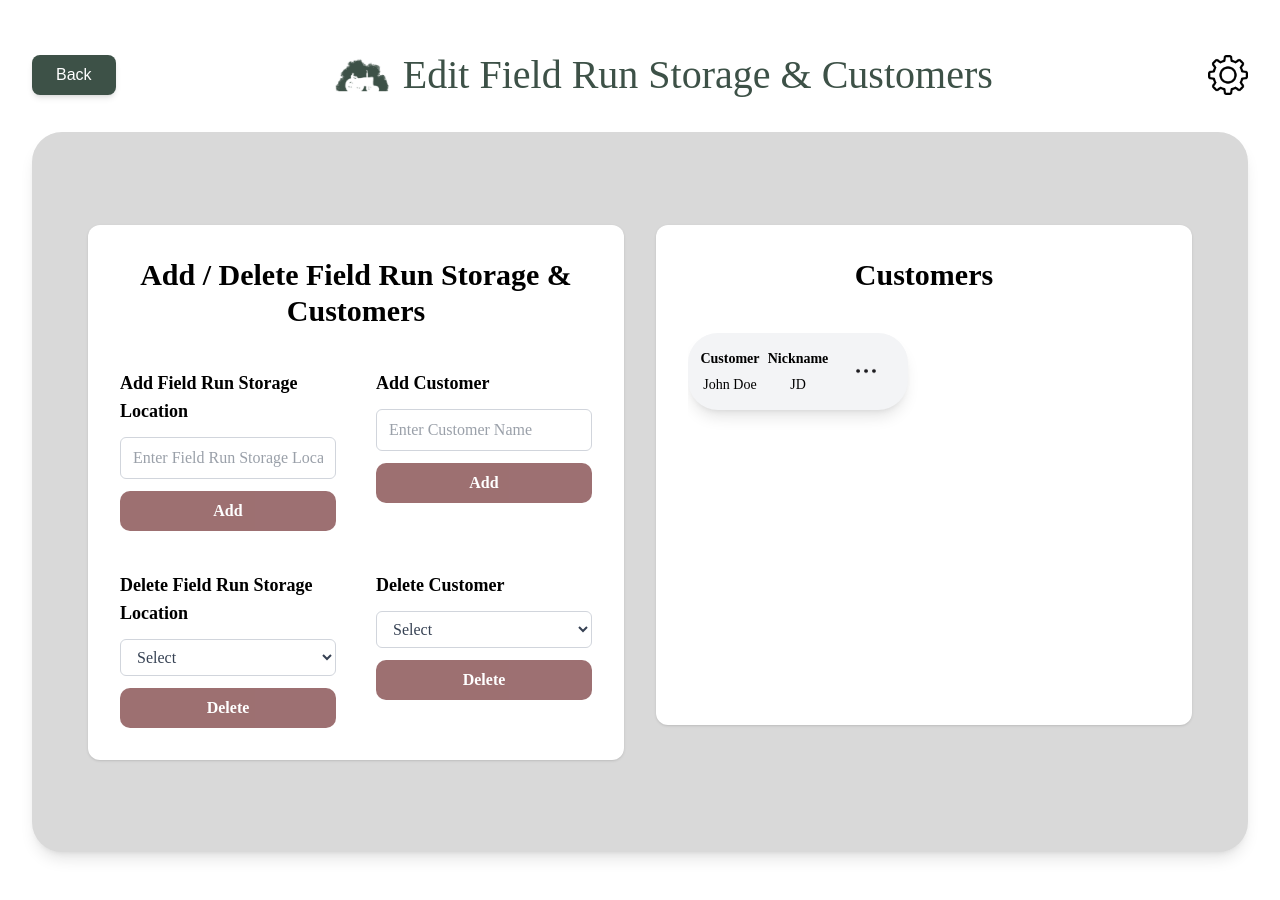
Test: EditFRStorageSuppliers (unit tests) › shows error message when Supabase insert returns duplicate location error
Step 1. Type "Silo 1" into the field with placeholder "Enter Field Run Storage Location" → (228, 458), box [120,436,336,478]
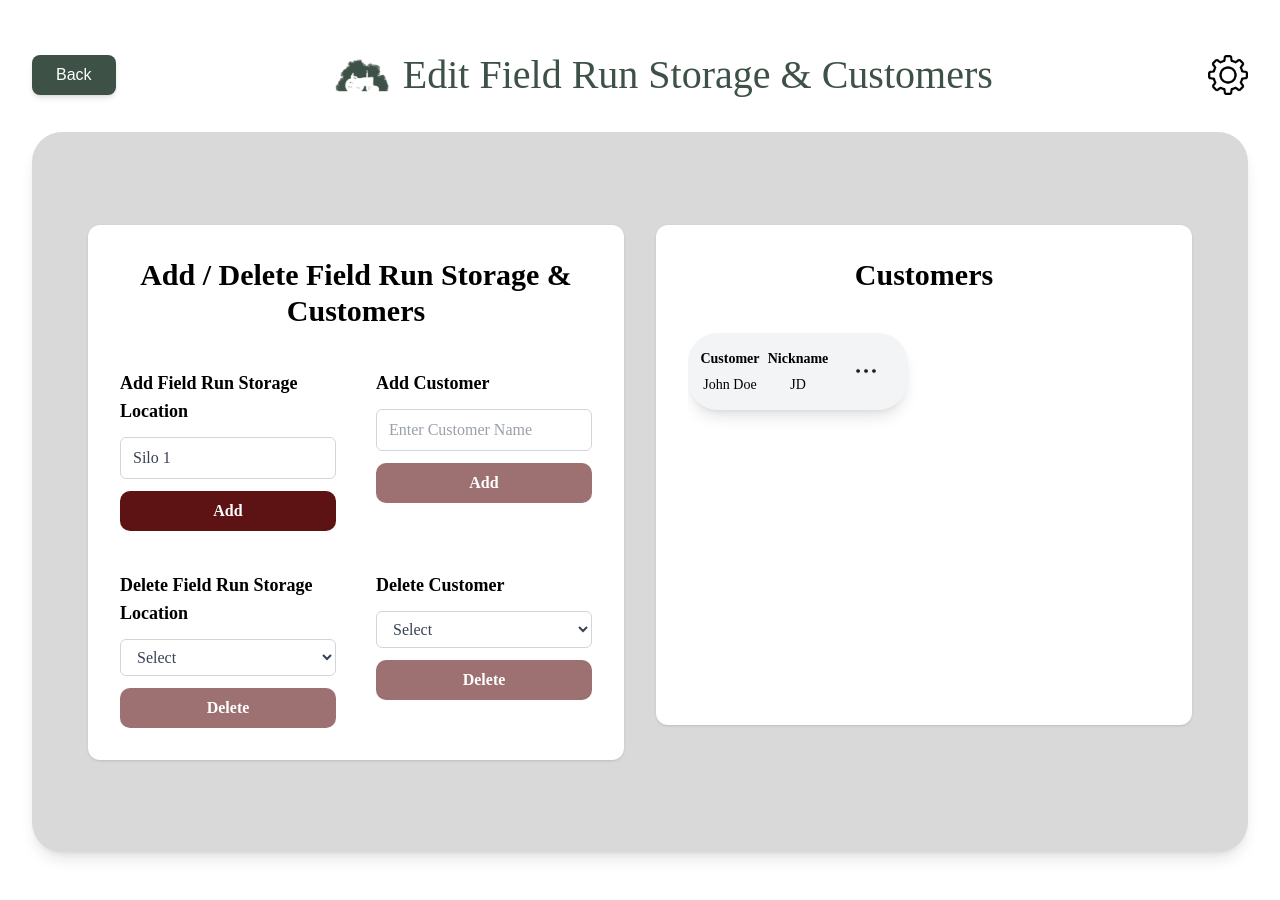
Step 2. Click the button "Add" below "Add Field Run Storage Location" → (228, 510), box [120,490,336,530]
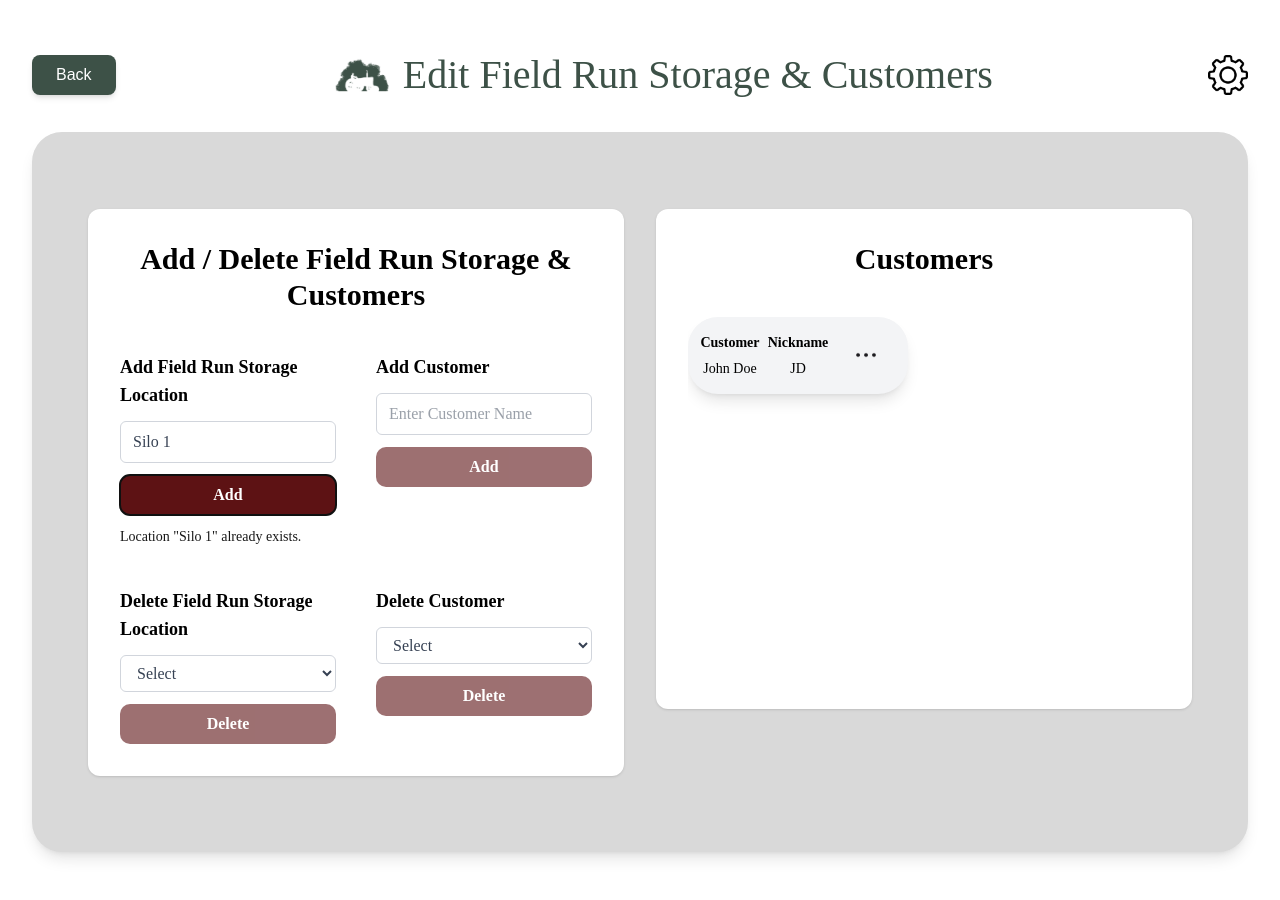
Result: the text "Location \"Silo 1\" already exists." is shown at [120,528,301,544]
